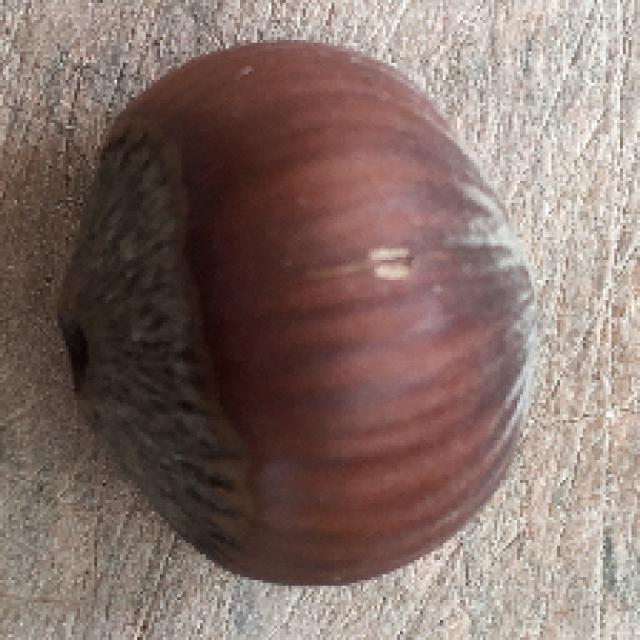DamagedHazelnut: (56, 41, 542, 586)
